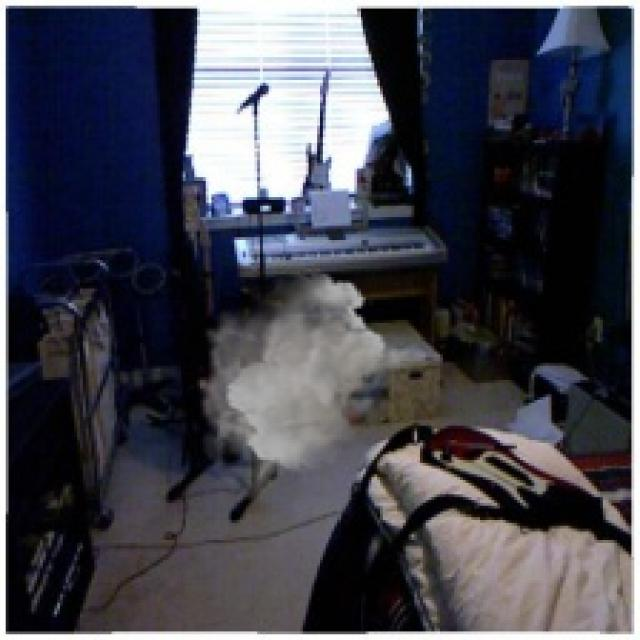smoke: (195, 268, 432, 503)
